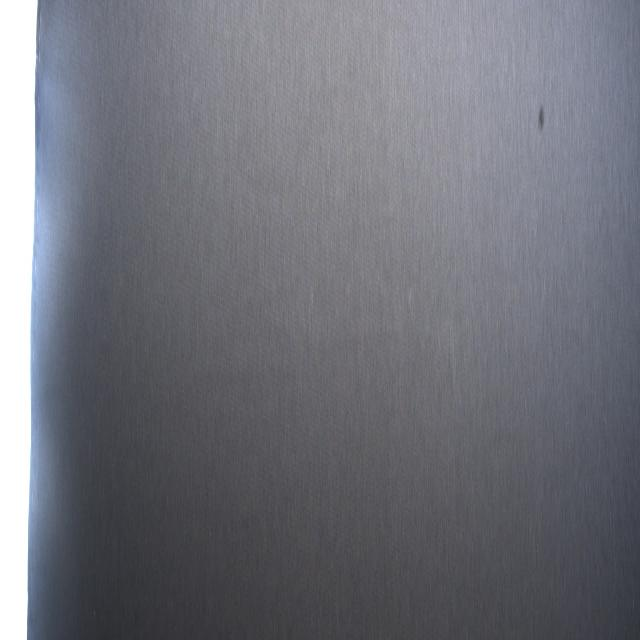crease: (188, 307, 404, 406)
